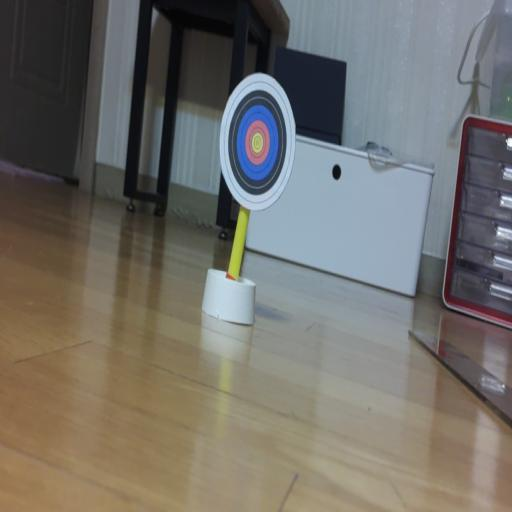target: (220, 74, 295, 210)
